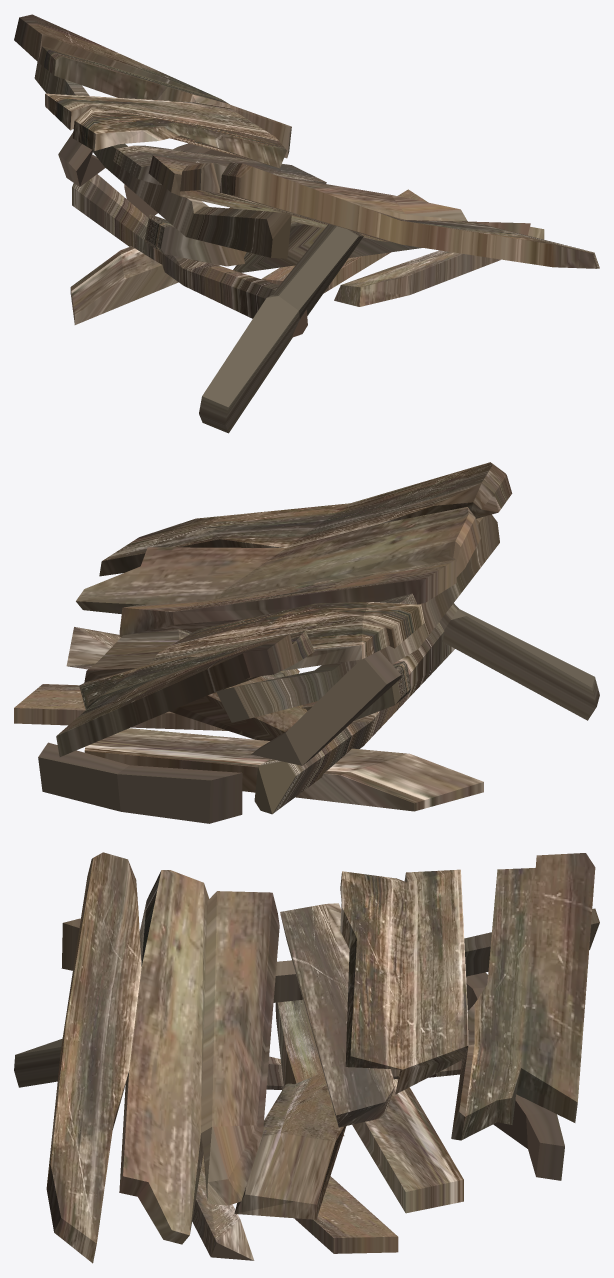
3 renders of one model, top to bottom at view 1: azimuth 30°, elevation 25°; view 2: azimuth 150°, elevation 25°; view 3: azimuth 270°, elevation 25°, orthographic. The views are drawn at different scales.
Parts seen in each view (by area): view 1: SM_Broken_Planks_01_LOD0; view 2: SM_Broken_Planks_01_LOD0; view 3: SM_Broken_Planks_01_LOD0.
Boxes of the visible parts, bbox=[...] form: SM_Broken_Planks_01_LOD0: bbox=[14, 14, 599, 433]; SM_Broken_Planks_01_LOD0: bbox=[14, 462, 599, 823]; SM_Broken_Planks_01_LOD0: bbox=[14, 852, 599, 1263].
Size of the model in its own units: 1.31 by 0.6679 by 1.35.
1 material, 1 textured.
